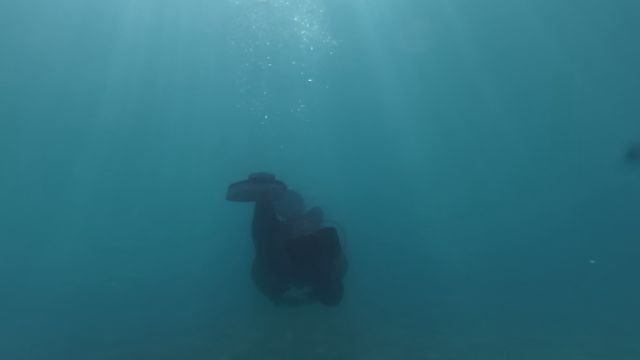Diver: (214, 163, 380, 321)
